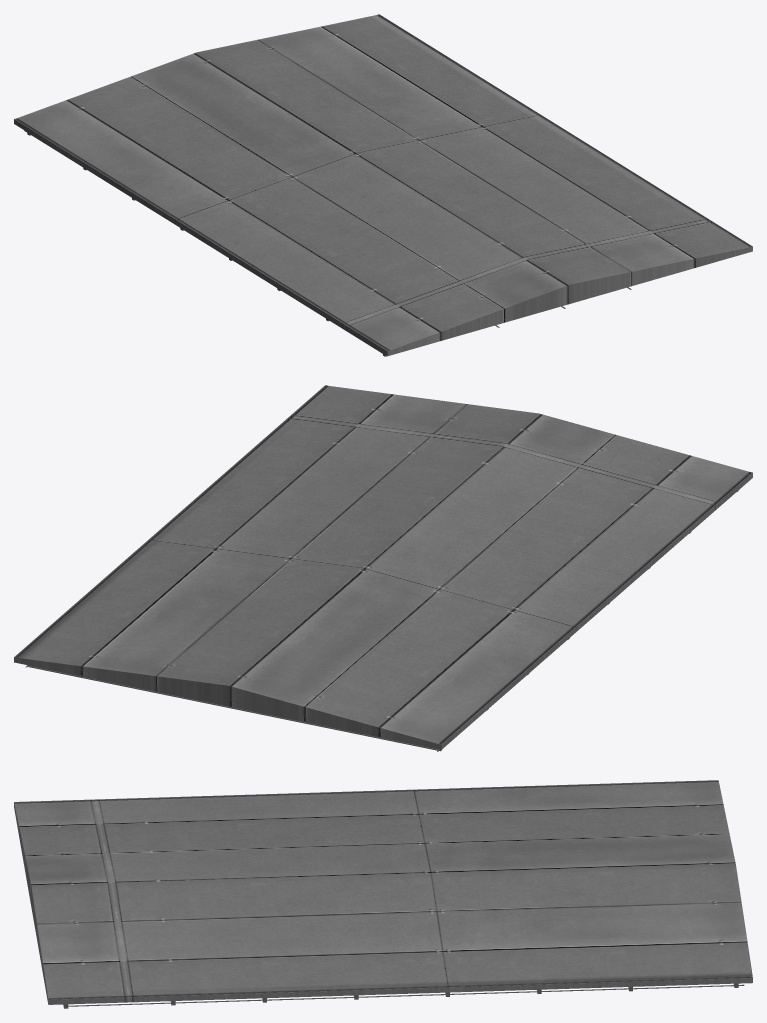
The model's file is roof.fbx.
The picture shows the model from 3 angles, top to bottom: view 1: azimuth 30°, elevation 25°; view 2: azimuth 150°, elevation 25°; view 3: azimuth 270°, elevation 25°; orthographic projection. The views are drawn at different scales.
Parts seen in each view (by area): view 1: roof; view 2: roof; view 3: roof.
Part boxes in pixels (bbox=[...]): roof: bbox=[14, 14, 752, 356]; roof: bbox=[14, 385, 752, 751]; roof: bbox=[14, 780, 752, 1008].
Size of the model in its own units: 506 by 30.5 by 719.
Materials: 2 (1 with a texture image).
